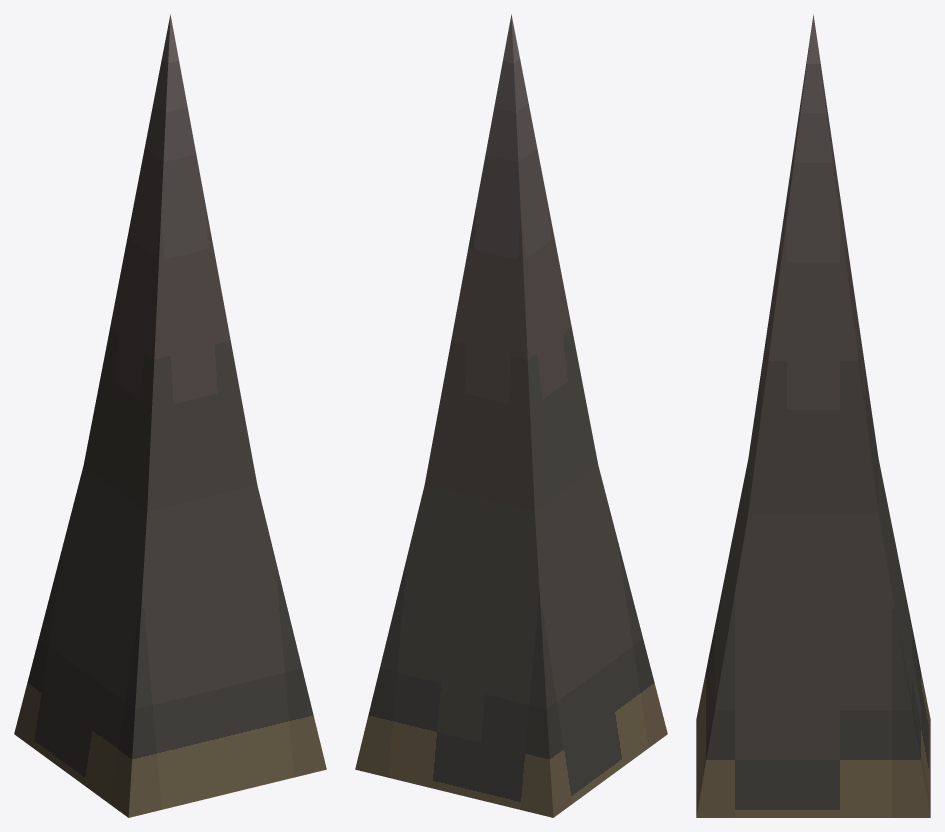
Rendered from Stalagmite_big.obj.
The picture shows the model from 3 angles, left to right: view 1: azimuth 30°, elevation 25°; view 2: azimuth 150°, elevation 25°; view 3: azimuth 270°, elevation 25°; orthographic projection. The views are drawn at different scales.
Visible parts, largest first — view 1: pyramid; view 2: pyramid; view 3: pyramid.
Part boxes in pixels (x1,y1,x2,y2): pyramid: [14, 14, 326, 817]; pyramid: [355, 14, 667, 817]; pyramid: [696, 14, 930, 817].
Size of the model in its own units: 0.2812 by 1 by 0.2812.
Materials: 1 (1 with a texture image).
